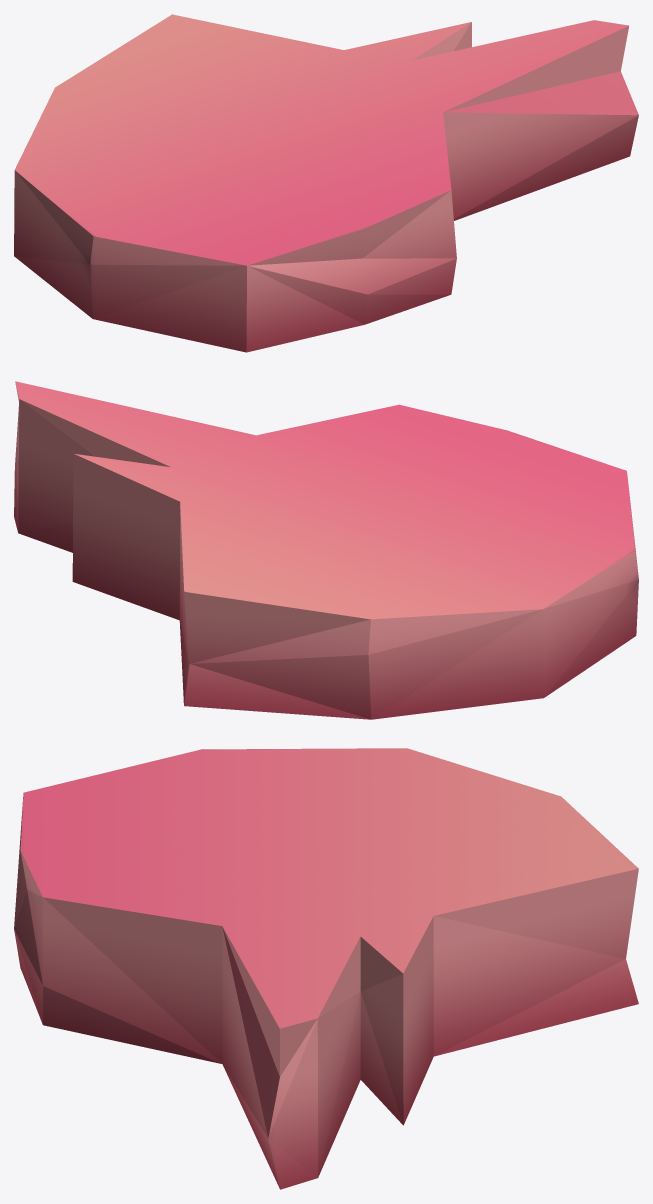
The model's file is Sunset_Ground_006.FBX.
The picture shows the model from 3 angles, top to bottom: view 1: azimuth 30°, elevation 25°; view 2: azimuth 150°, elevation 25°; view 3: azimuth 270°, elevation 25°; orthographic projection. The views are drawn at different scales.
Visible parts, largest first — view 1: Sunset_Ground_006; view 2: Sunset_Ground_006; view 3: Sunset_Ground_006.
Boxes of the visible parts, x1,y1,x2,y2 form: Sunset_Ground_006: (14, 14, 638, 352); Sunset_Ground_006: (14, 381, 638, 719); Sunset_Ground_006: (14, 748, 638, 1189).
Bounding box in the file's own units: 944 × 205 × 725.
1 material, 1 textured.
